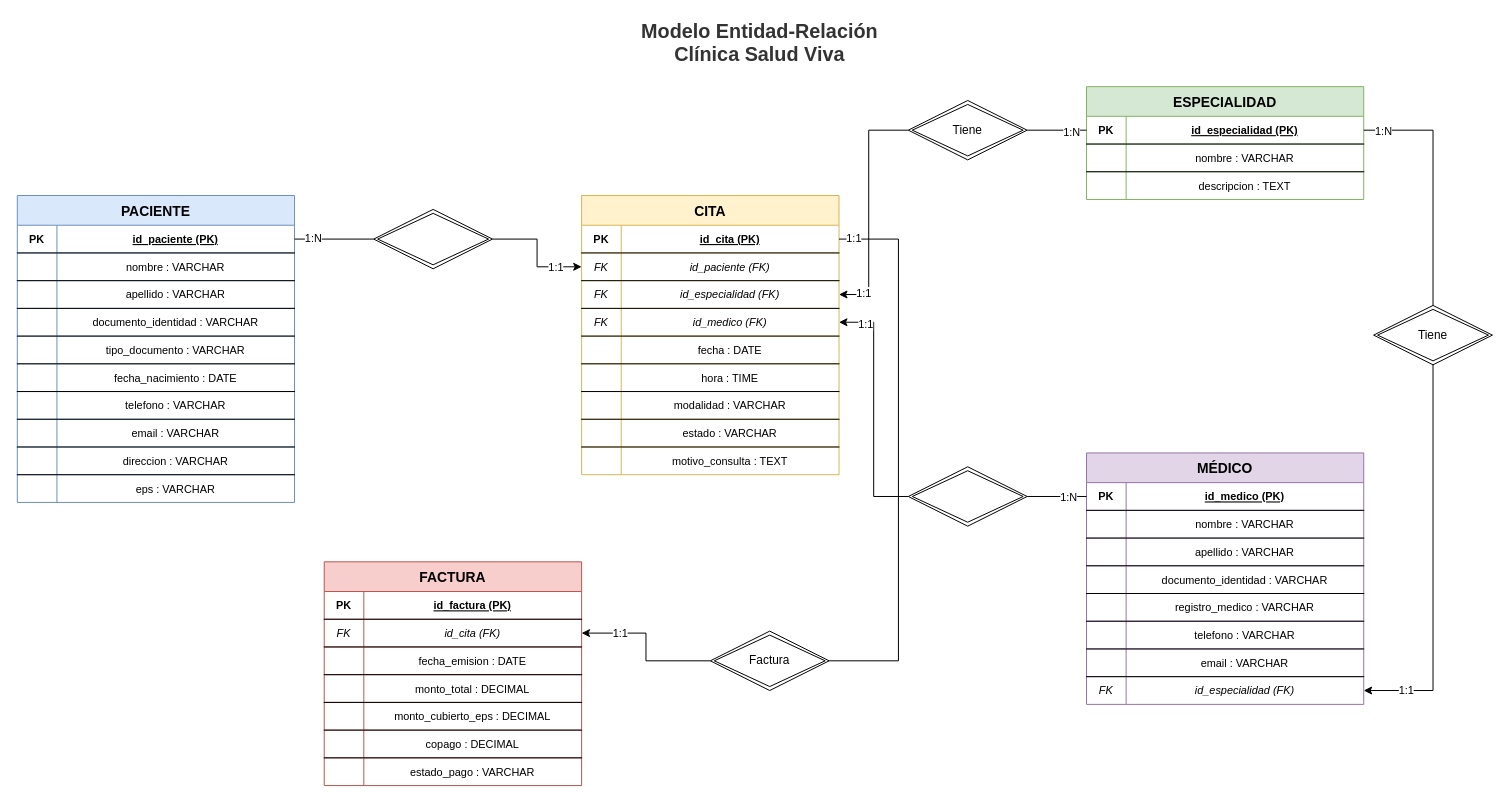
This 1510x803 diagram has some shape labels left out. Here are the shapes that lost their labels. From the top down, the centre of each, then its label:
(433,238): Agenda
(967,496): Asigna
